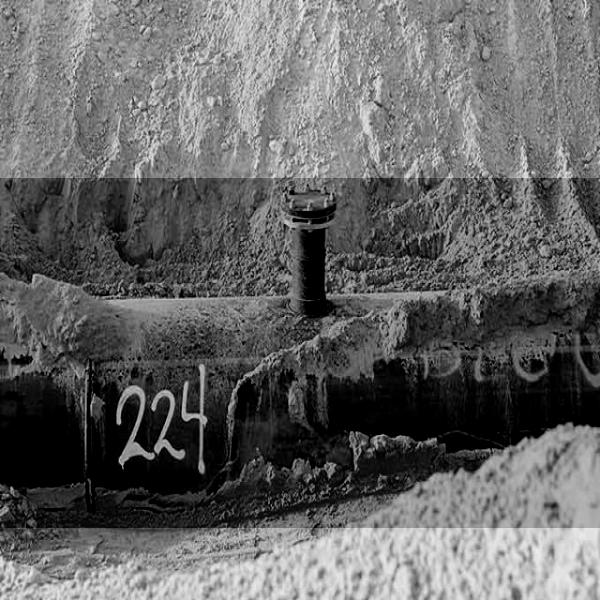no leak: (0, 178, 600, 528)
